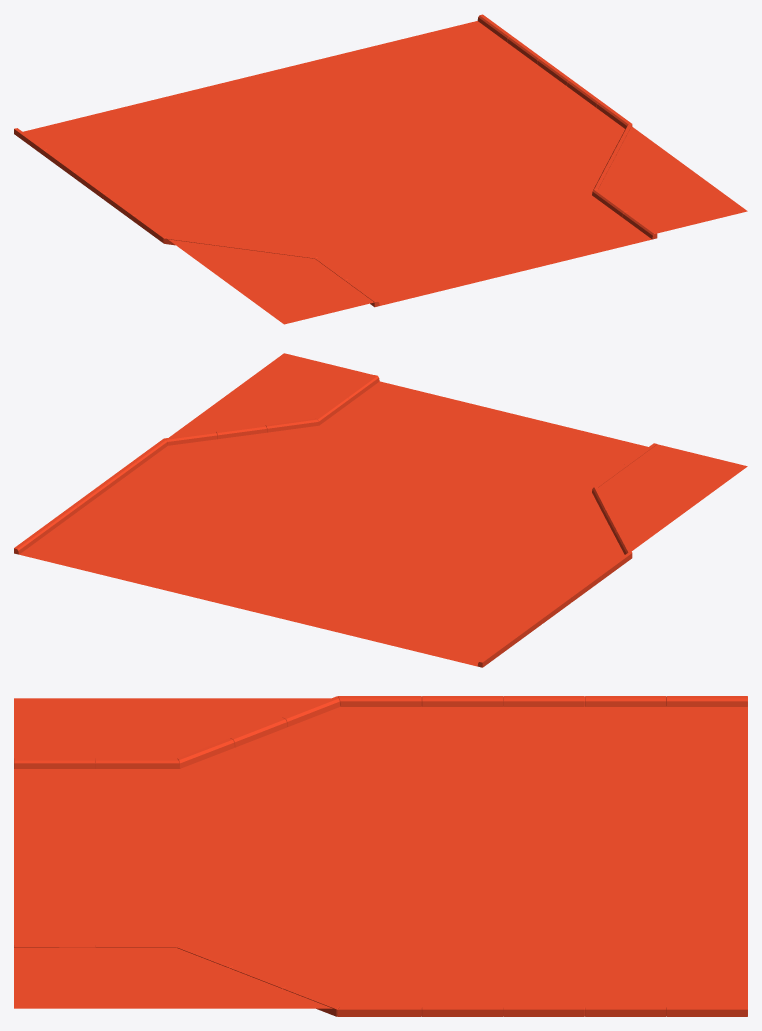
The model's file is SM_Road_Stop_Start_10x10_City.fbx.
The picture shows the model from 3 angles, top to bottom: view 1: azimuth 30°, elevation 25°; view 2: azimuth 150°, elevation 25°; view 3: azimuth 270°, elevation 25°; orthographic projection. The views are drawn at different scales.
Visible parts, largest first — view 1: SM_Road_Stop_Start_10x10_City; view 2: SM_Road_Stop_Start_10x10_City; view 3: SM_Road_Stop_Start_10x10_City.
Boxes of the visible parts, x1,y1,x2,y2 form: SM_Road_Stop_Start_10x10_City: (14,14,747,324); SM_Road_Stop_Start_10x10_City: (14,353,747,667); SM_Road_Stop_Start_10x10_City: (14,696,747,1016).
Size of the model in its own units: 10.11 by 0.1149 by 10.
